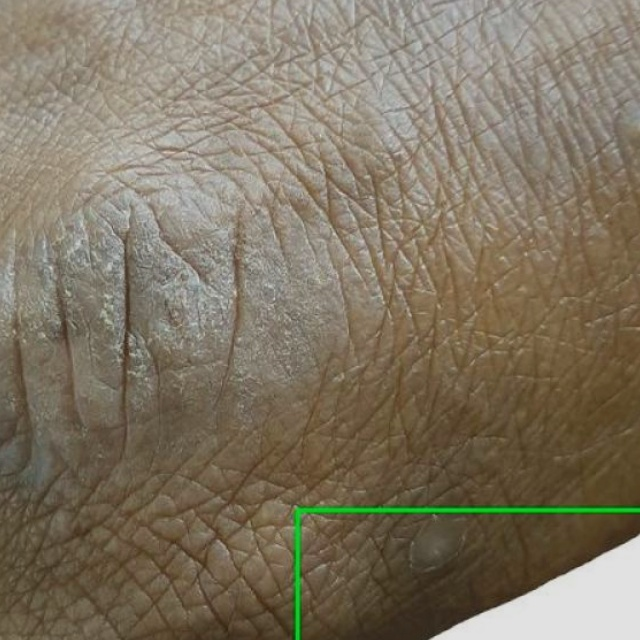Eczema: (297, 510, 639, 639)
